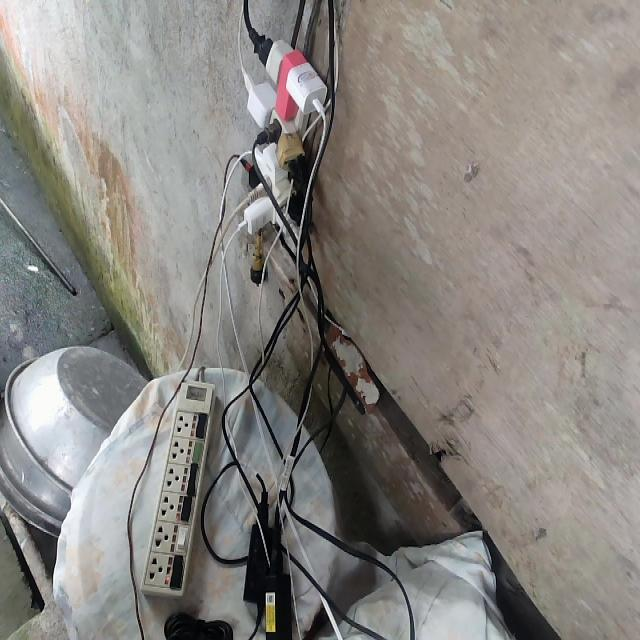-: (231, 27, 331, 238)
